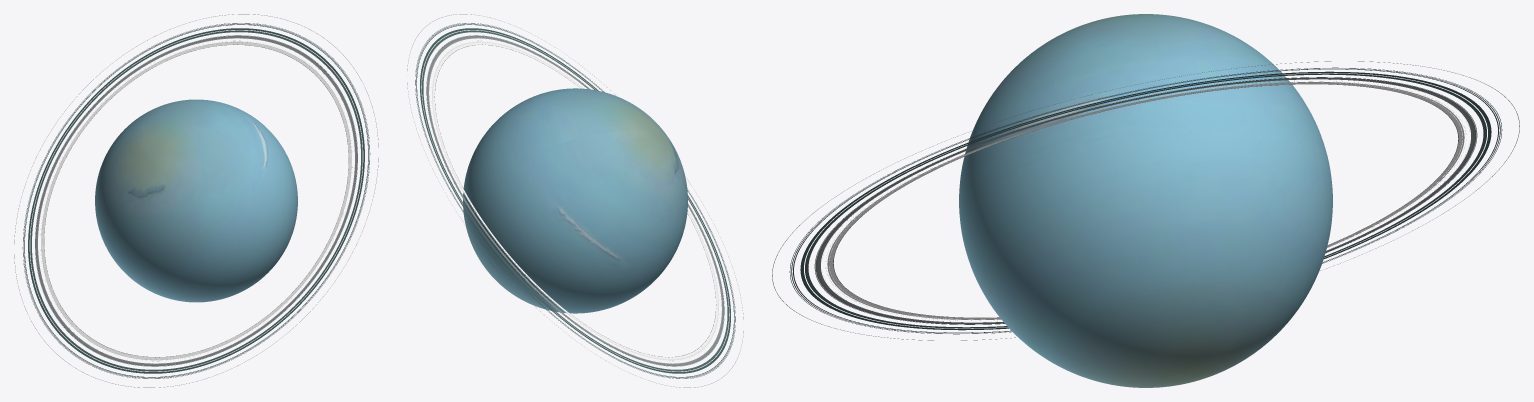
File: uranus3d.glb
The picture shows the model from 3 angles, left to right: view 1: azimuth 30°, elevation 25°; view 2: azimuth 150°, elevation 25°; view 3: azimuth 270°, elevation 25°; orthographic projection. The views are drawn at different scales.
Visible parts, largest first — view 1: node_id87, node_id89; view 2: node_id87, node_id89; view 3: node_id87, node_id89.
Boxes of the visible parts, x1,y1,x2,y2 form: node_id87: [95, 99, 297, 302]; node_id89: [14, 14, 378, 387]; node_id87: [463, 88, 687, 313]; node_id89: [407, 14, 743, 387]; node_id87: [959, 14, 1332, 387]; node_id89: [772, 61, 1519, 340].
Size of the model in its own units: 0.3809 by 0.3578 by 0.5011.
2 materials, 2 textured.
